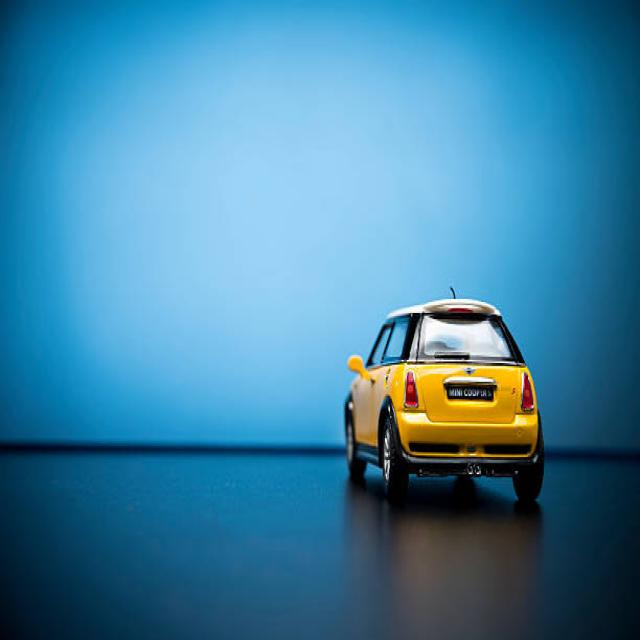Car: (343, 289, 544, 504)
